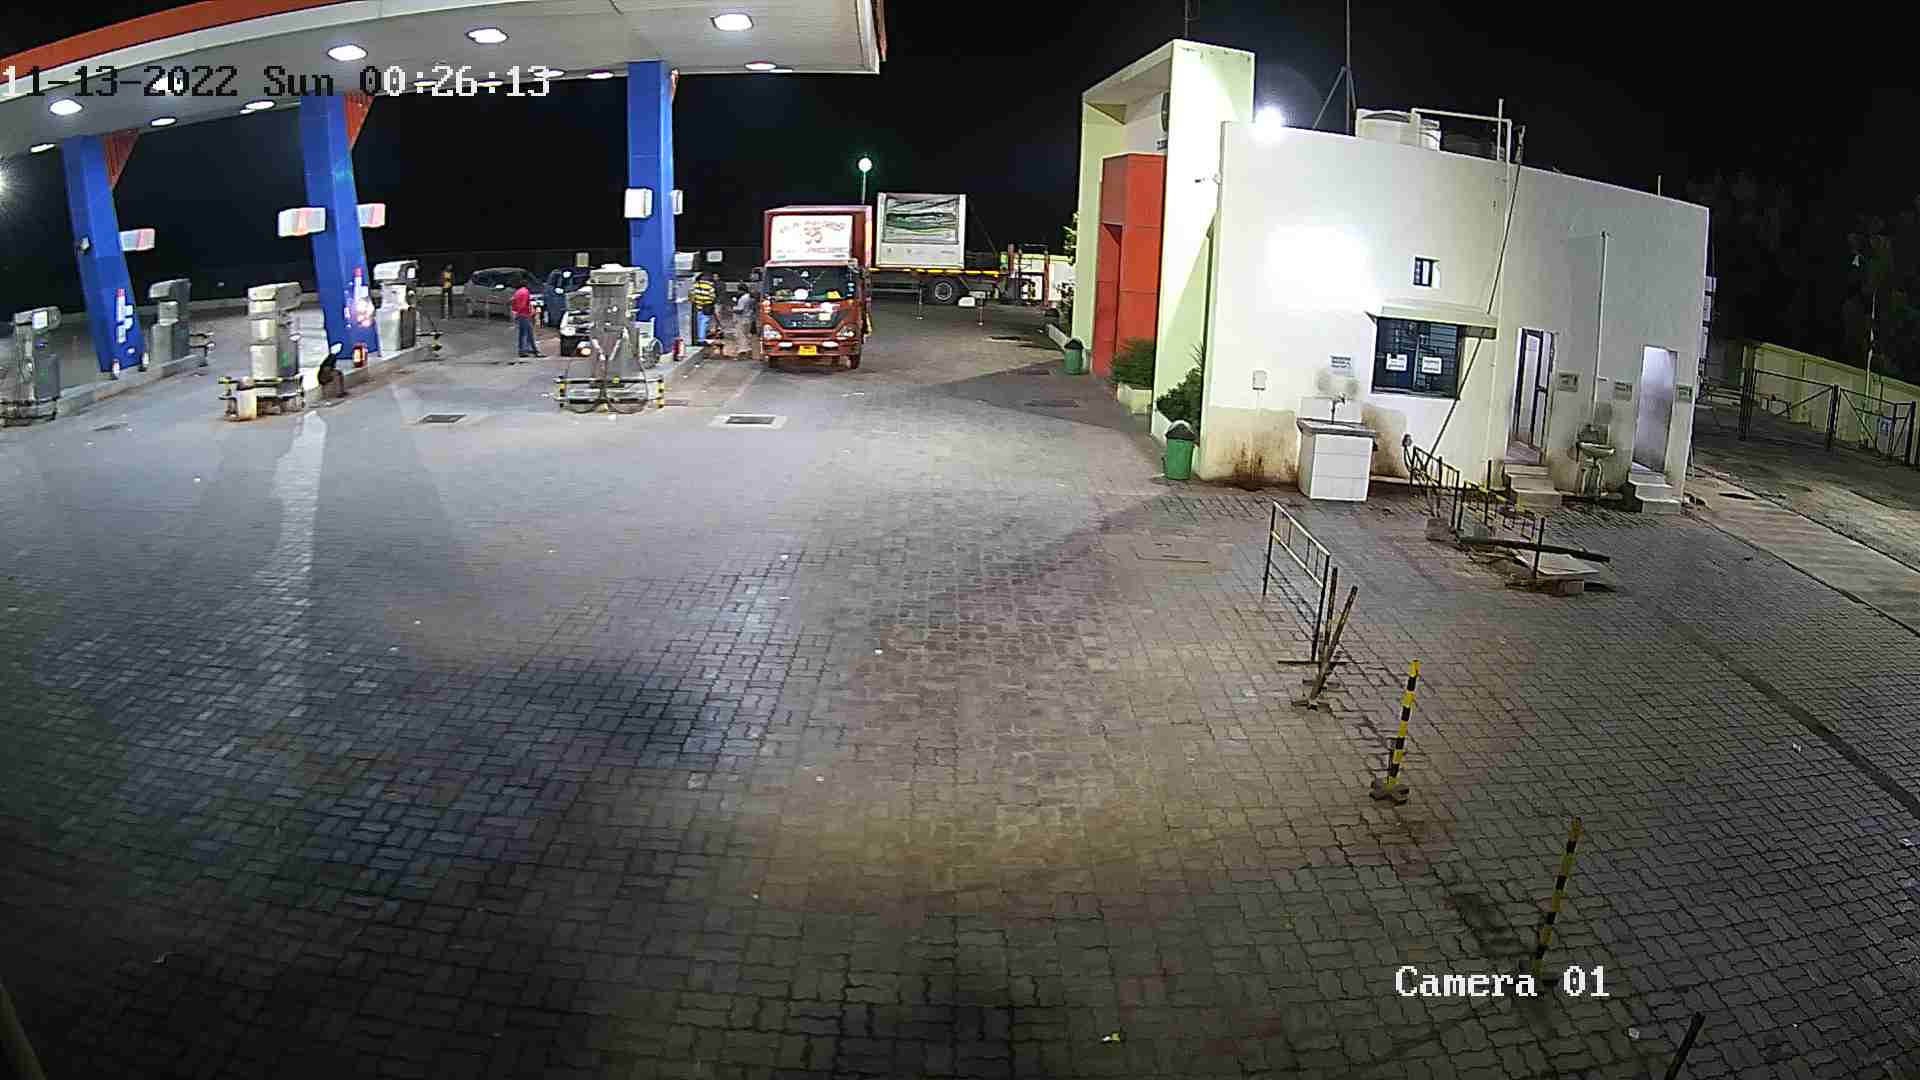Car: (454, 258, 549, 320), (549, 269, 603, 356), (534, 260, 596, 330)
HMV: (741, 194, 882, 378), (865, 186, 1052, 311)
